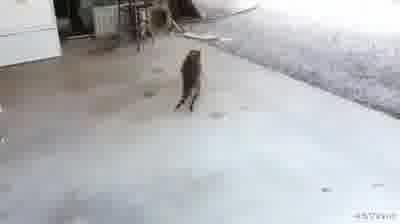raccoon: (168, 46, 211, 119)
